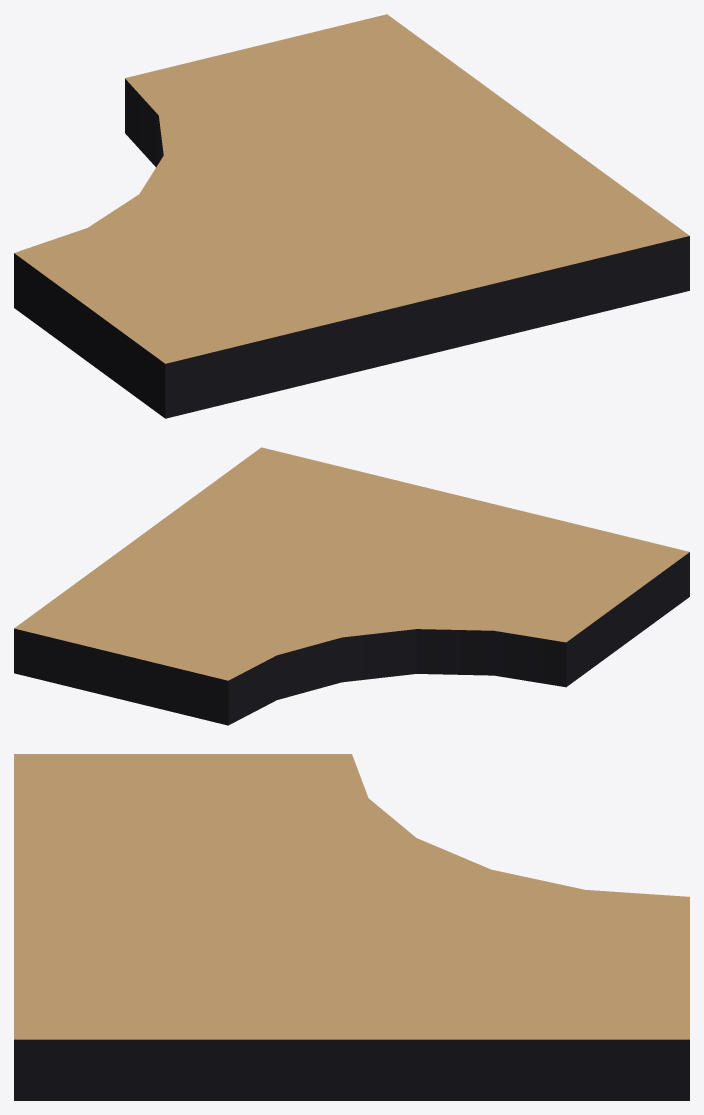
Rendered from ManPad_CNR_Blank.fbx.
3 renders of one model, top to bottom at view 1: azimuth 30°, elevation 25°; view 2: azimuth 150°, elevation 25°; view 3: azimuth 270°, elevation 25°, orthographic. The views are drawn at different scales.
Visible parts, largest first — view 1: ManPad_CNR_Blank; view 2: ManPad_CNR_Blank; view 3: ManPad_CNR_Blank.
Part boxes in pixels (bbox=[...]): ManPad_CNR_Blank: bbox=[14, 14, 689, 418]; ManPad_CNR_Blank: bbox=[14, 447, 689, 725]; ManPad_CNR_Blank: bbox=[14, 754, 689, 1100].
Bounding box in the file's own units: 10 × 1 × 10.
